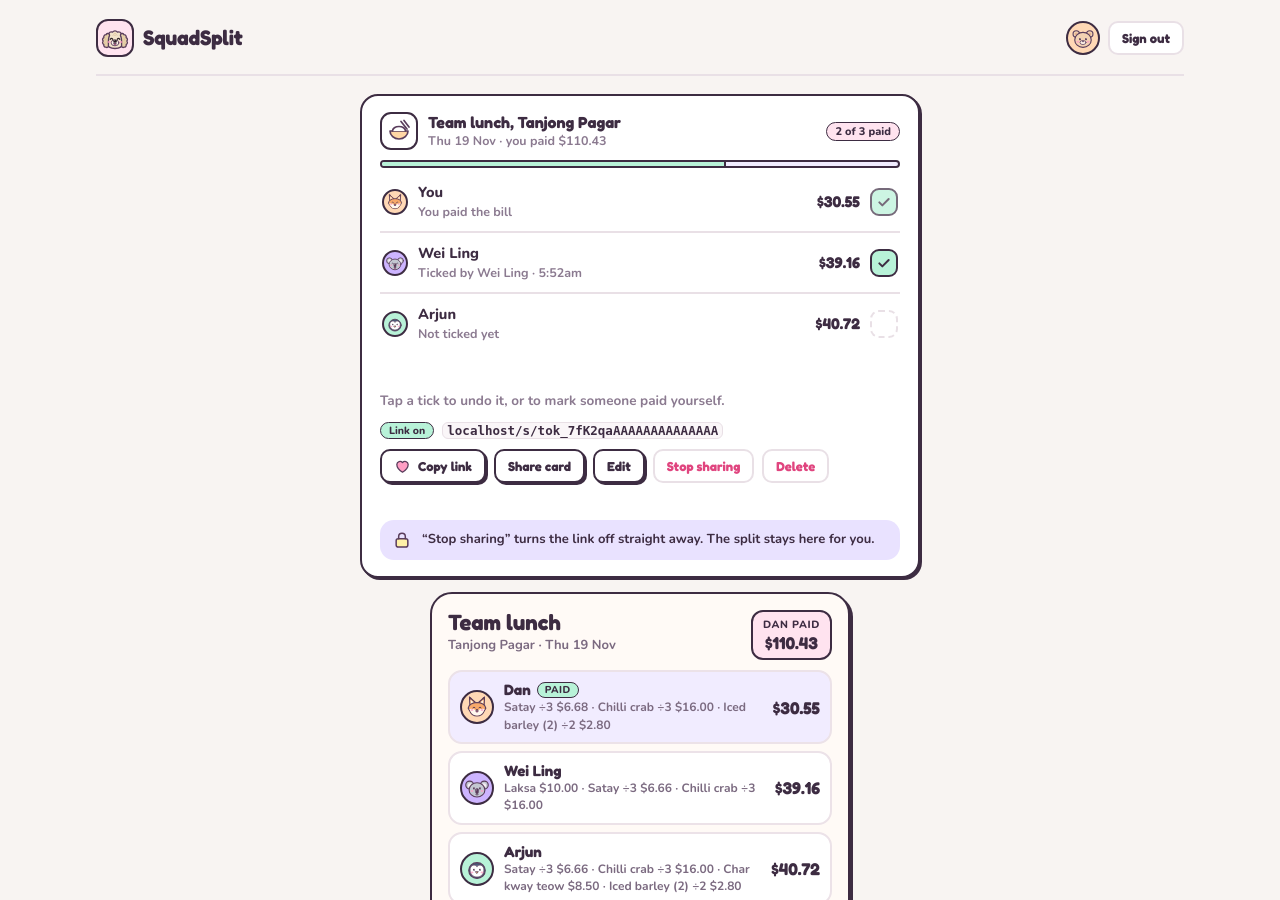
Scenario: the payer's quick split page › lets the payer mark someone paid, and undo a tick
Click the button named "Mark Arjun paid".
click(884, 324)  # box [870, 310, 898, 338]
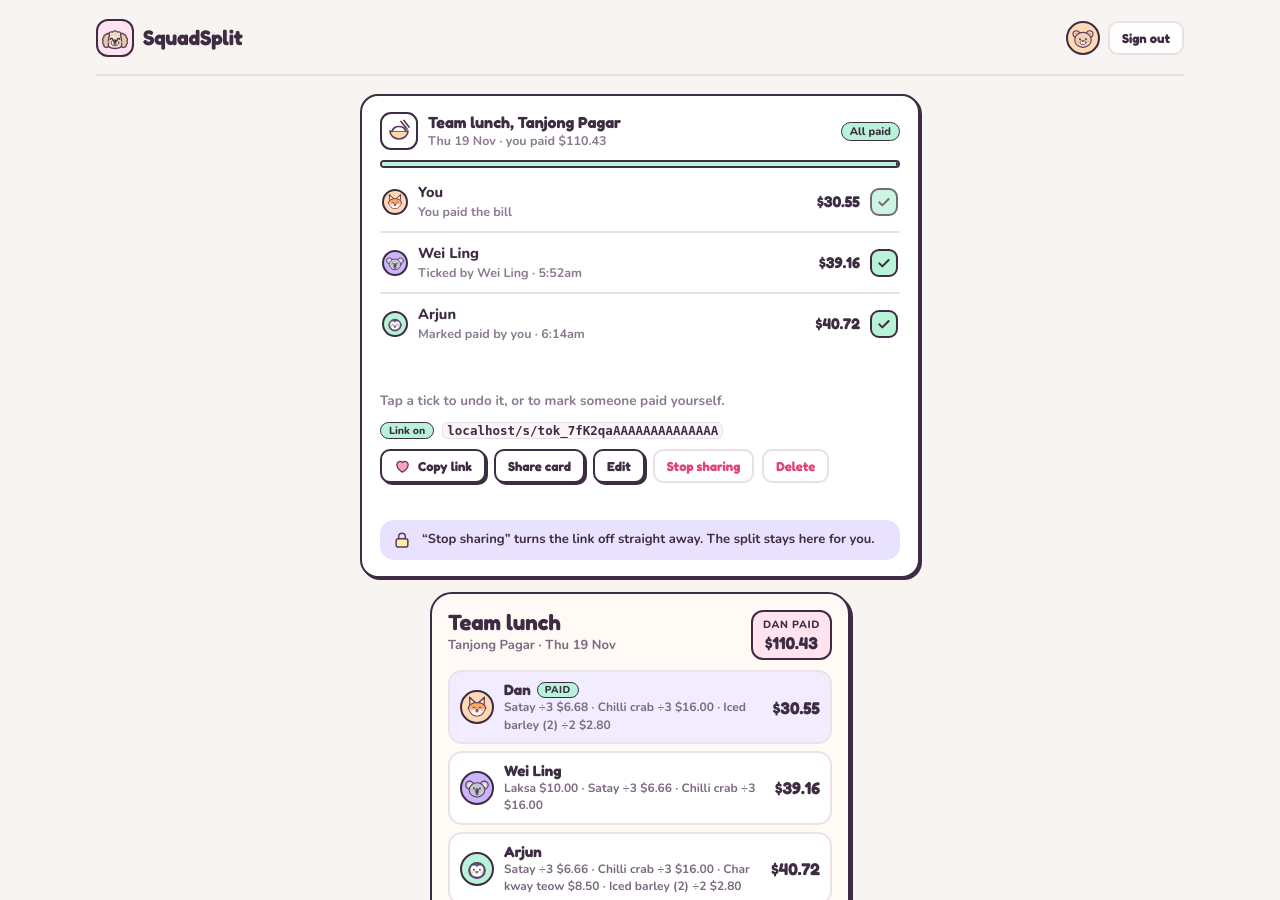
Result: the text "Marked paid by you · 6:14am" is shown at [418, 325, 585, 342]
Result: the text "All paid" is shown at [841, 122, 900, 141]
Click the button named "Untick Wei Ling".
click(884, 263)  # box [870, 249, 898, 277]
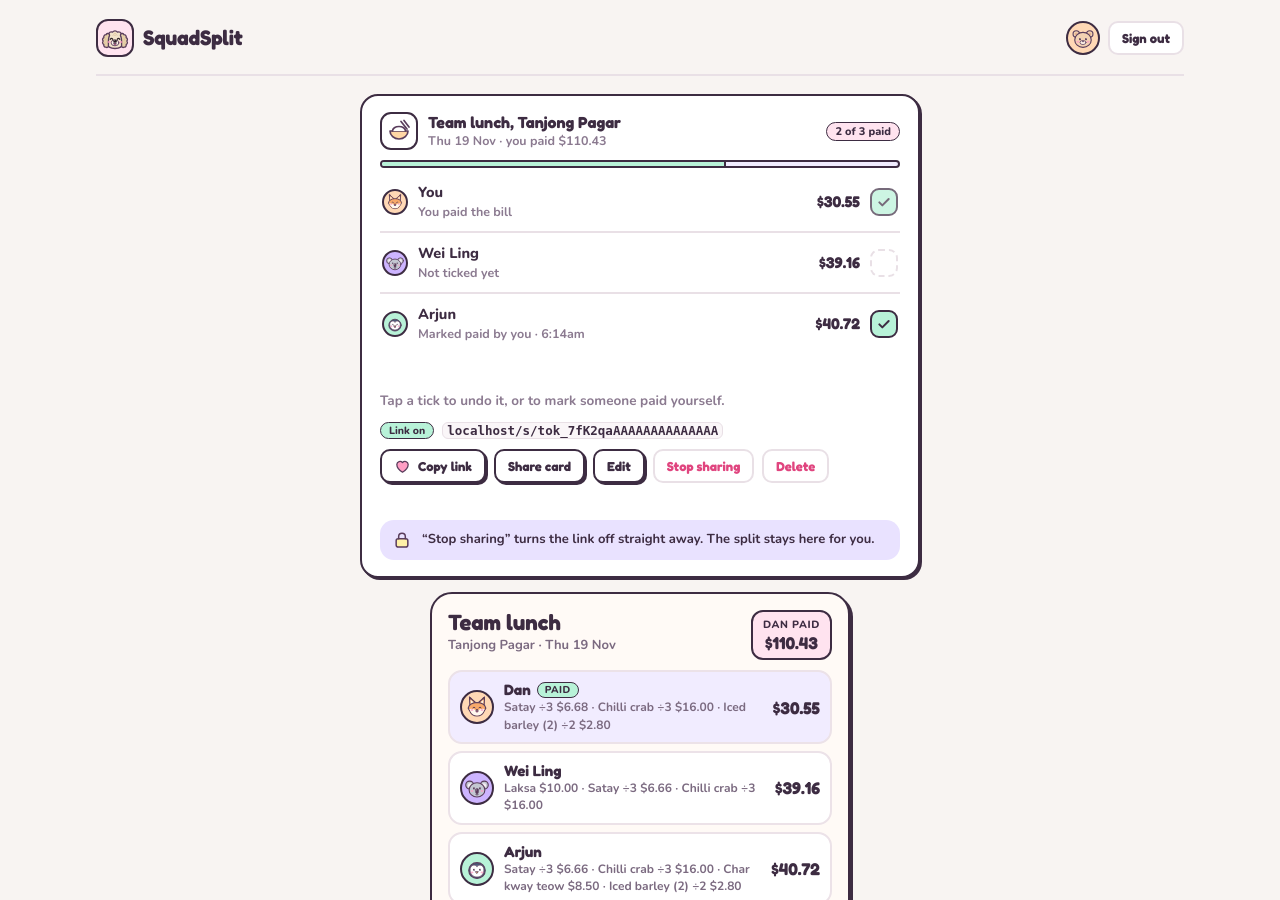
Result: the text "Not ticked yet" is shown at [418, 264, 499, 281]
